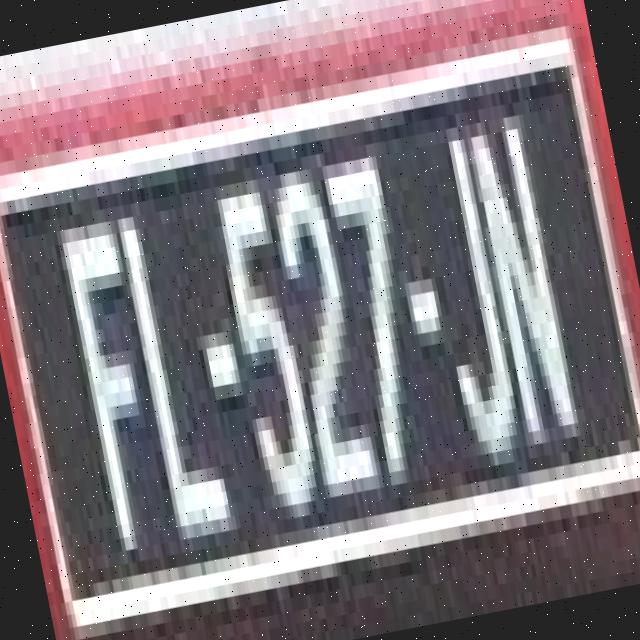Autre: (0, 43, 640, 624)
